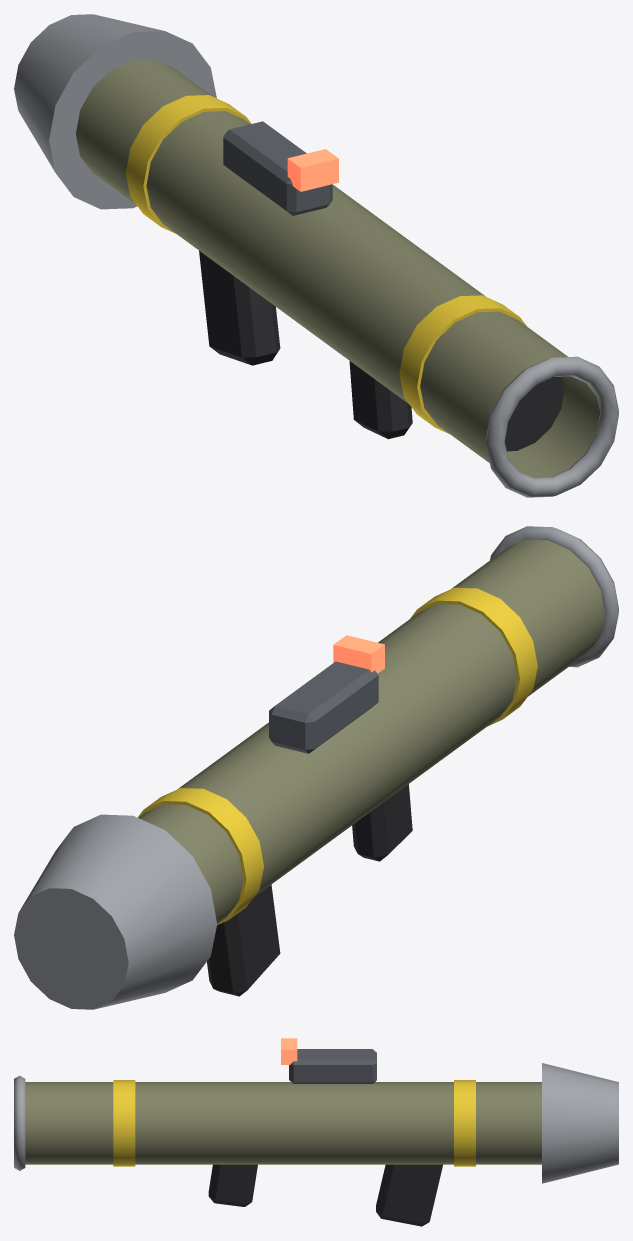
File: weapon_launcher.glb
3 views of the same model, one above another, from view 1: azimuth 30°, elevation 25°; view 2: azimuth 150°, elevation 25°; view 3: azimuth 270°, elevation 25° (orthographic). The views are drawn at different scales.
Visible parts, largest first — view 1: launcher; view 2: launcher; view 3: launcher.
Boxes of the visible parts, x1,y1,x2,y2 form: launcher: (14, 14, 618, 497); launcher: (14, 526, 618, 1009); launcher: (14, 1038, 618, 1226).
Size of the model in its own units: 0.22 by 0.3463 by 1.1.
